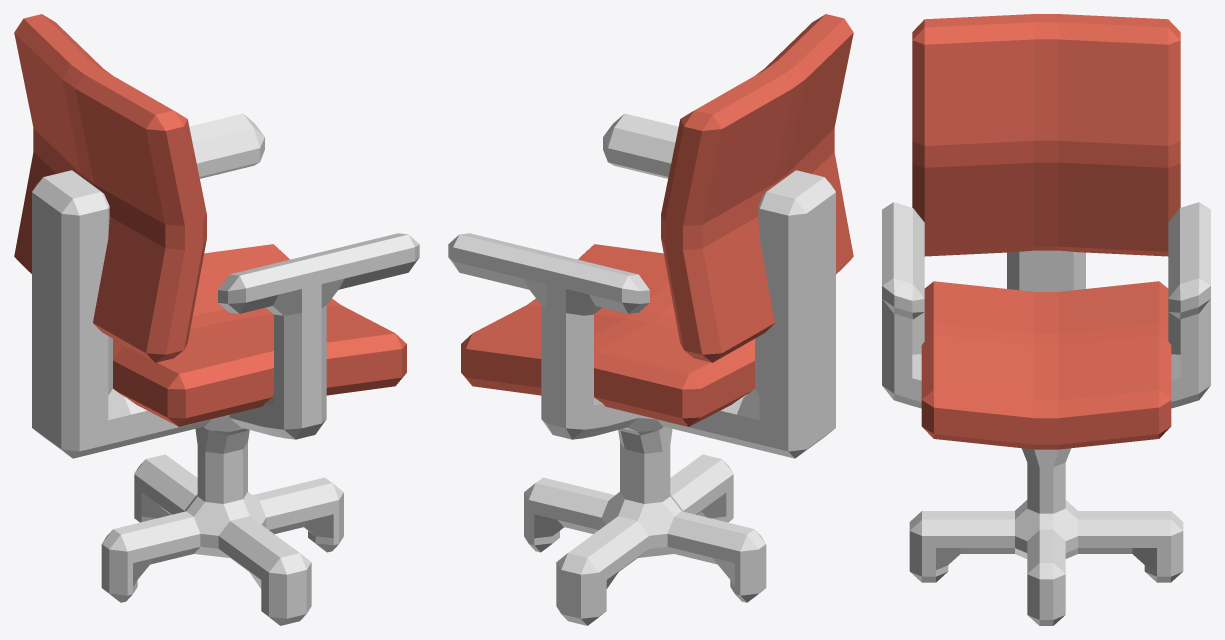
File: Officechar.fbx
3 renders of one model, left to right at view 1: azimuth 30°, elevation 25°; view 2: azimuth 150°, elevation 25°; view 3: azimuth 270°, elevation 25°, orthographic. The views are drawn at different scales.
Parts seen in each view (by area): view 1: Cube; view 2: Cube; view 3: Cube.
Part boxes in pixels (bbox=[...]): Cube: bbox=[14, 14, 419, 625]; Cube: bbox=[448, 14, 853, 625]; Cube: bbox=[882, 14, 1210, 625].
Size of the model in its own units: 53.48 by 92.19 by 55.06.
